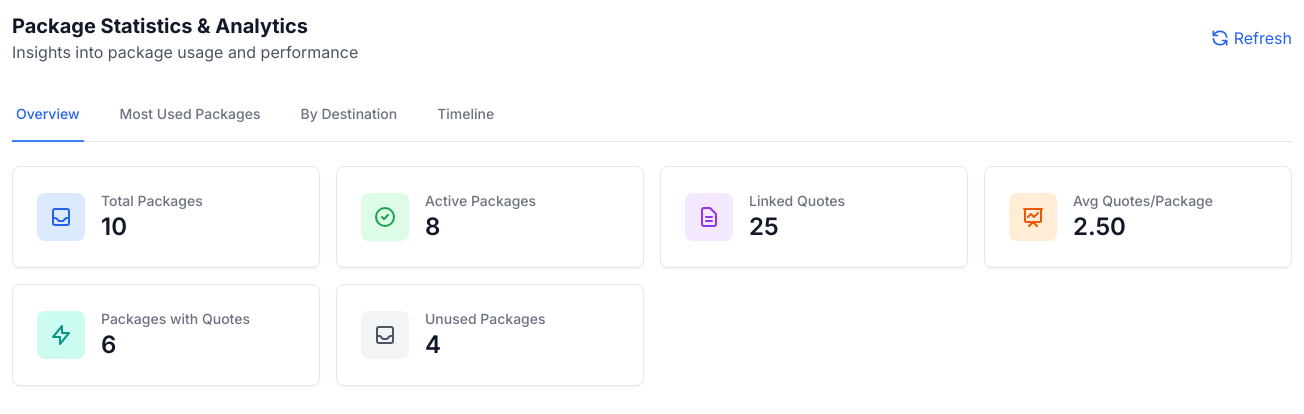
it: SuperPackageStatistics › should display timeline data
This screenshot has width=1304, height=414.
Expected: the heading "Package Statistics & Analytics" is shown, top-left (12, 12), bottom-right (358, 40)
# Switch to timeline tab
Click the button "Timeline": {"x": 466, "y": 115} top-left (433, 88), bottom-right (498, 142)
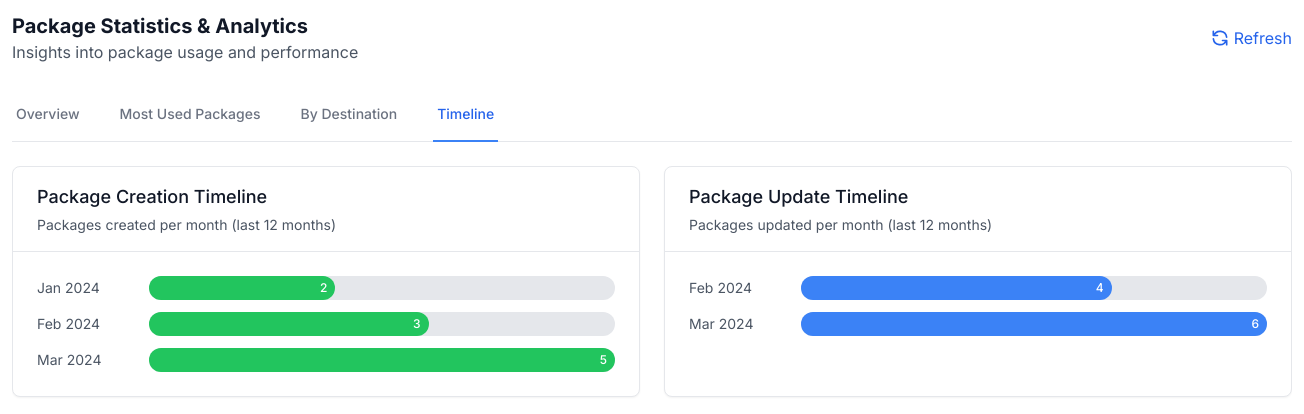
Expected: the heading "Package Creation Timeline" is shown, top-left (37, 186), bottom-right (267, 207)
Expected: the heading "Package Update Timeline" is shown, top-left (689, 186), bottom-right (908, 207)
Expected: the text "Jan 2024" is shown, top-left (37, 279), bottom-right (100, 296)
